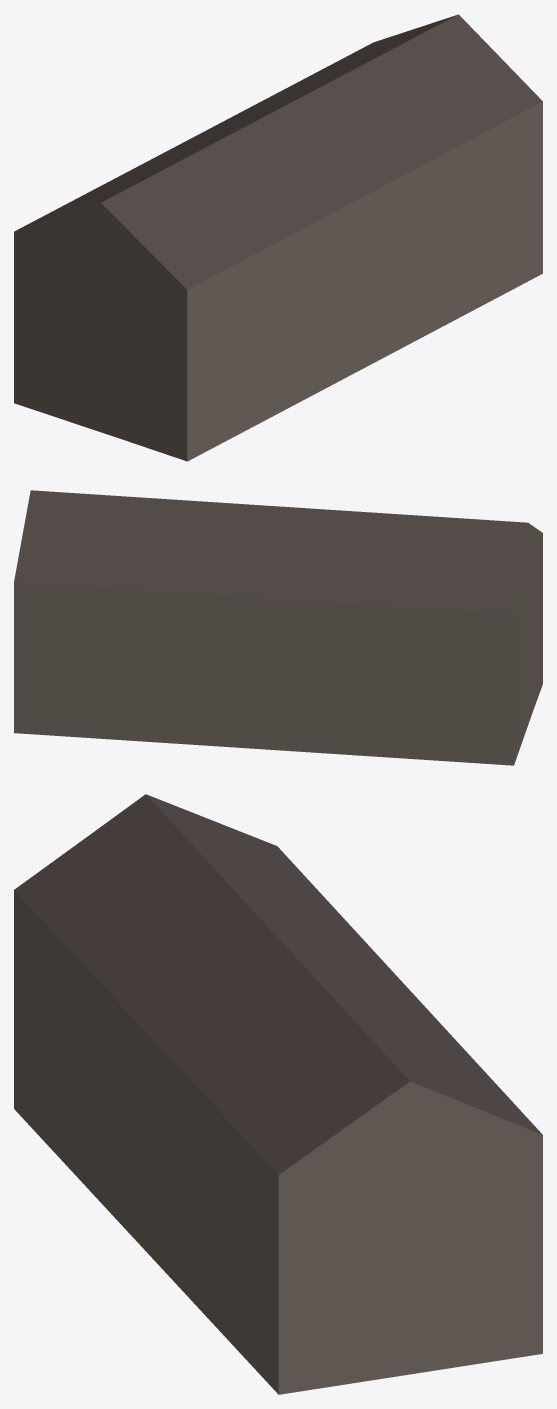
The picture shows the model from 3 angles, top to bottom: view 1: azimuth 30°, elevation 25°; view 2: azimuth 150°, elevation 25°; view 3: azimuth 270°, elevation 25°; orthographic projection. The views are drawn at different scales.
Parts seen in each view (by area): view 1: HP-w1198847846; view 2: HP-w1198847846; view 3: HP-w1198847846.
Boxes of the visible parts, left/top/right/bottom form: HP-w1198847846: left=14, top=14, right=542, bottom=461; HP-w1198847846: left=14, top=490, right=542, bottom=765; HP-w1198847846: left=14, top=794, right=542, bottom=1394.
Size of the model in its own units: 19.38 by 8.03 by 13.14.
